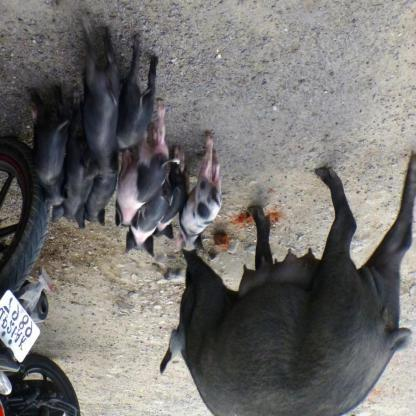boar: (27, 12, 415, 416)
